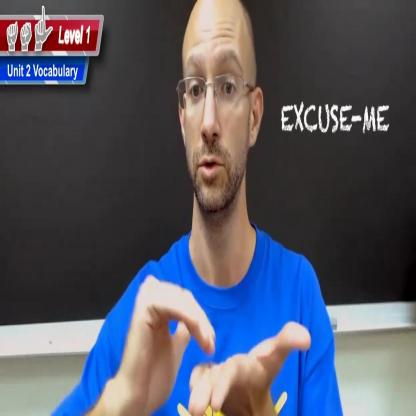ExcuseMe: (108, 260, 311, 416)
